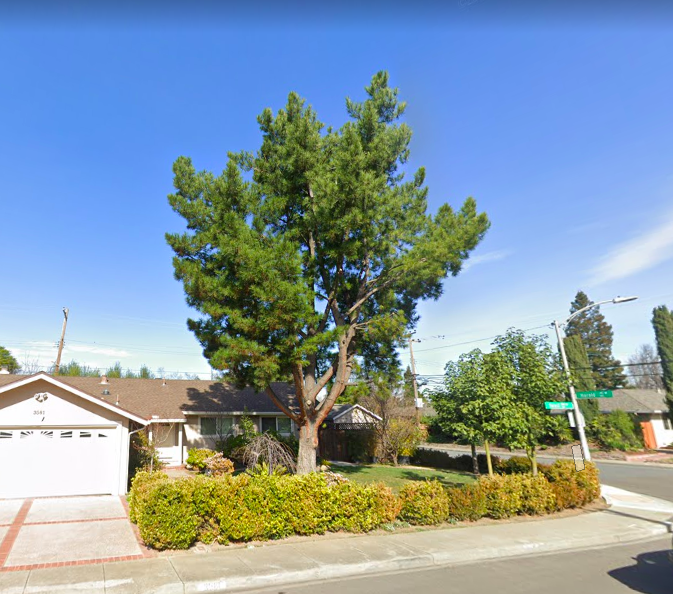tree: (164, 70, 492, 479)
